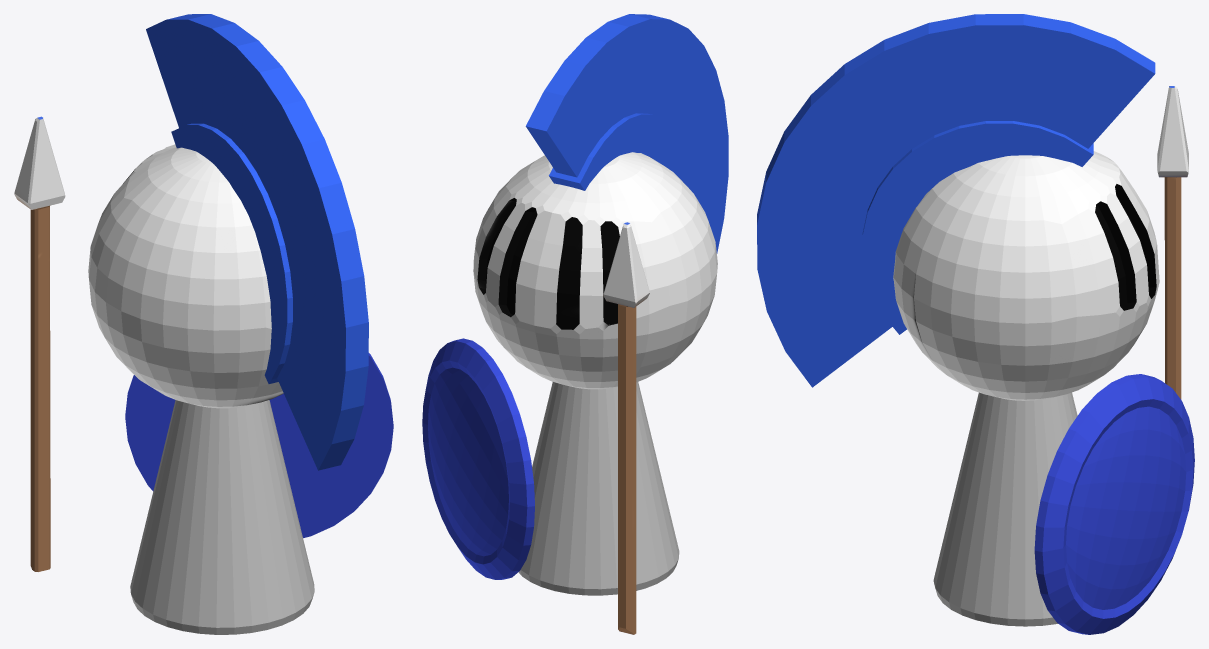
The model's file is pawn_knight.fbx.
3 views of the same model, side by side, from view 1: azimuth 30°, elevation 25°; view 2: azimuth 150°, elevation 25°; view 3: azimuth 270°, elevation 25° (orthographic). The views are drawn at different scales.
Parts seen in each view (by area): view 1: brush, head, body, shield, Spear, brush holder; view 2: head, brush, body, shield, Spear, brush holder; view 3: brush, head, shield, body, brush holder, Spear.
Boxes of the visible parts, left/top/right/bottom form: brush: left=146, top=14, right=368, bottom=470; head: left=88, top=144, right=283, bottom=408; body: left=130, top=400, right=314, bottom=634; shield: left=125, top=353, right=393, bottom=537; Spear: left=14, top=116, right=65, bottom=571; brush holder: left=171, top=123, right=292, bottom=383; head: left=473, top=152, right=717, bottom=389; brush: left=525, top=14, right=728, bottom=253; body: left=518, top=382, right=679, bottom=595; shield: left=422, top=338, right=534, bottom=579; Spear: left=603, top=222, right=649, bottom=634; brush holder: left=549, top=113, right=685, bottom=190; brush: left=757, top=14, right=1155, bottom=387; head: left=893, top=151, right=1159, bottom=400; shield: left=1034, top=374, right=1194, bottom=634; body: left=933, top=392, right=1077, bottom=626; brush holder: left=862, top=121, right=1093, bottom=334; Spear: left=1157, top=86, right=1188, bottom=399.
Size of the model in its own units: 262 by 468 by 326.
